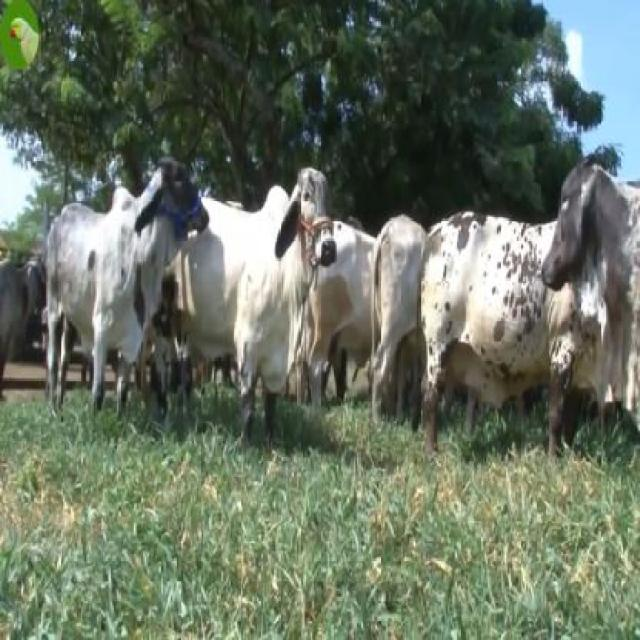Cow: (44, 162, 208, 423), (207, 166, 336, 425), (538, 158, 638, 334)
